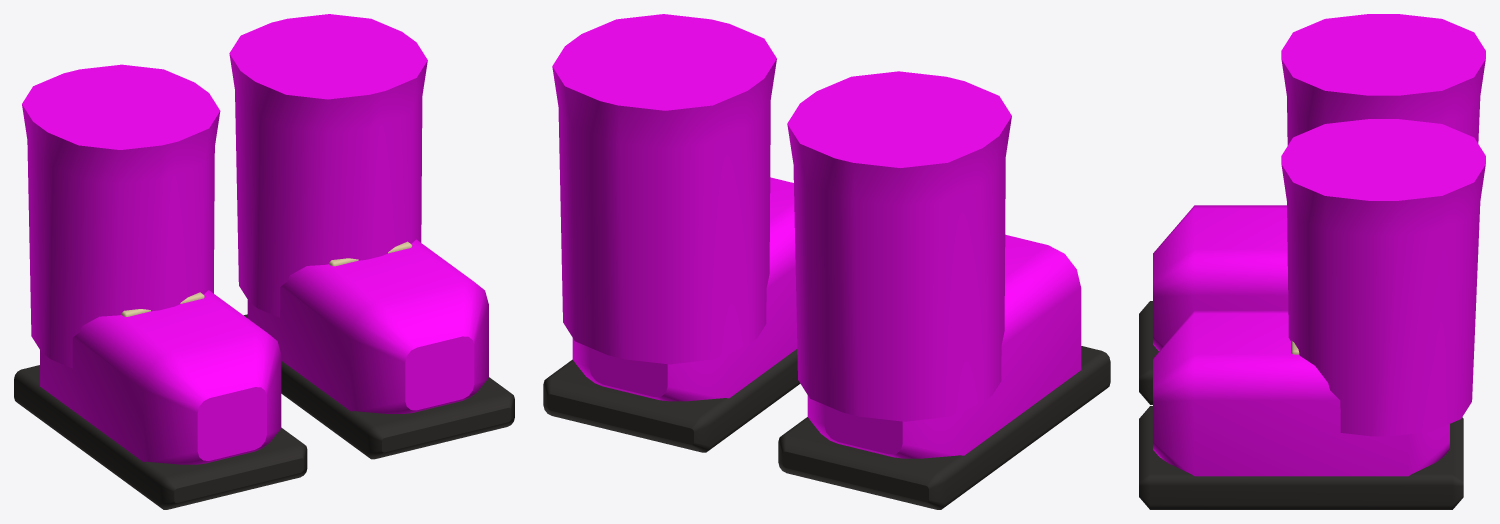
Rendered from porte_bottes.glb.
The picture shows the model from 3 angles, left to right: view 1: azimuth 30°, elevation 25°; view 2: azimuth 150°, elevation 25°; view 3: azimuth 270°, elevation 25°; orthographic projection. The views are drawn at different scales.
Parts seen in each view (by area): view 1: jambe_g__bottes_teinte.002, jambe_d__bottes_teinte.002, pied_d__bottes_teinte.002, pied_g__bottes_teinte.002, pied_d__bottes_semelle.002, pied_g__bottes_semelle.002; view 2: jambe_d__bottes_teinte.002, jambe_g__bottes_teinte.002, pied_d__bottes_teinte.002, pied_d__bottes_semelle.002, pied_g__bottes_teinte.002, pied_g__bottes_semelle.002; view 3: jambe_g__bottes_teinte.002, pied_g__bottes_teinte.002, jambe_d__bottes_teinte.002, pied_d__bottes_teinte.002, pied_g__bottes_semelle.002, pied_d__bottes_semelle.002.
Part boxes in pixels (bbox=[...]): jambe_g__bottes_teinte.002: bbox=[229, 14, 427, 317]; jambe_d__bottes_teinte.002: bbox=[22, 64, 220, 368]; pied_d__bottes_teinte.002: bbox=[40, 290, 281, 464]; pied_g__bottes_teinte.002: bbox=[247, 239, 488, 413]; pied_d__bottes_semelle.002: bbox=[14, 365, 307, 509]; pied_g__bottes_semelle.002: bbox=[244, 314, 514, 459]; jambe_d__bottes_teinte.002: bbox=[787, 71, 1011, 421]; jambe_g__bottes_teinte.002: bbox=[552, 14, 776, 364]; pied_d__bottes_teinte.002: bbox=[807, 234, 1081, 458]; pied_d__bottes_semelle.002: bbox=[778, 346, 1110, 509]; pied_g__bottes_teinte.002: bbox=[572, 177, 797, 401]; pied_g__bottes_semelle.002: bbox=[543, 349, 800, 452]; jambe_g__bottes_teinte.002: bbox=[1281, 119, 1485, 436]; pied_g__bottes_teinte.002: bbox=[1153, 310, 1449, 476]; jambe_d__bottes_teinte.002: bbox=[1281, 14, 1485, 145]; pied_d__bottes_teinte.002: bbox=[1153, 205, 1288, 351]; pied_g__bottes_semelle.002: bbox=[1139, 406, 1463, 509]; pied_d__bottes_semelle.002: bbox=[1139, 301, 1158, 404].
Size of the model in its own units: 0.32 by 0.252 by 0.251.
